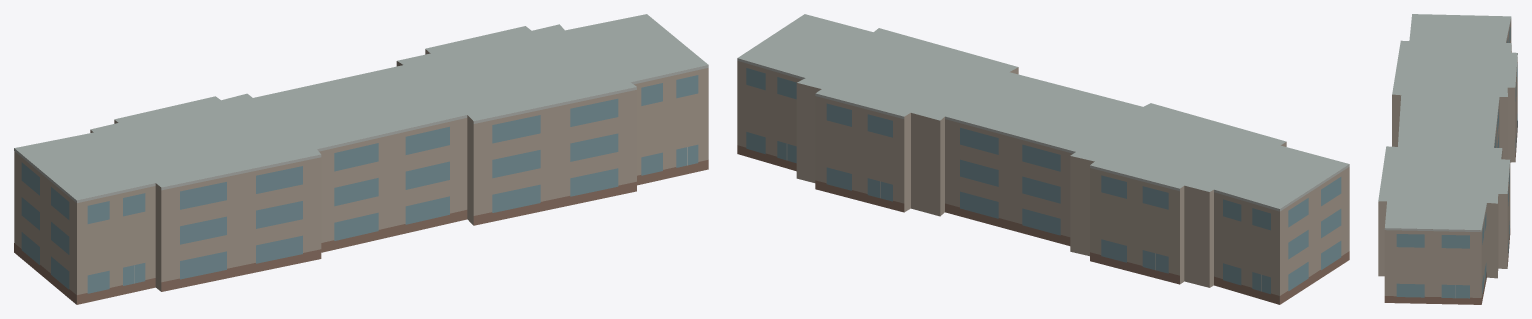
Rendered from survey-upis-33030340.glb.
3 renders of one model, left to right at view 1: azimuth 30°, elevation 25°; view 2: azimuth 150°, elevation 25°; view 3: azimuth 270°, elevation 25°, orthographic. The views are drawn at different scales.
Parts seen in each view (by area): view 1: survey-upis-33030340.tmp; view 2: survey-upis-33030340.tmp; view 3: survey-upis-33030340.tmp.
Part boxes in pixels (<box>): survey-upis-33030340.tmp: <box>14,14,708,304</box>; survey-upis-33030340.tmp: <box>737,14,1349,304</box>; survey-upis-33030340.tmp: <box>1378,14,1517,304</box>.
Size of the model in its own units: 56.73 by 9.15 by 15.49.
